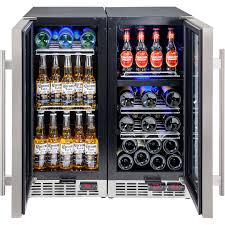beer: (35, 110, 100, 171), (35, 54, 99, 109), (120, 27, 183, 75)
